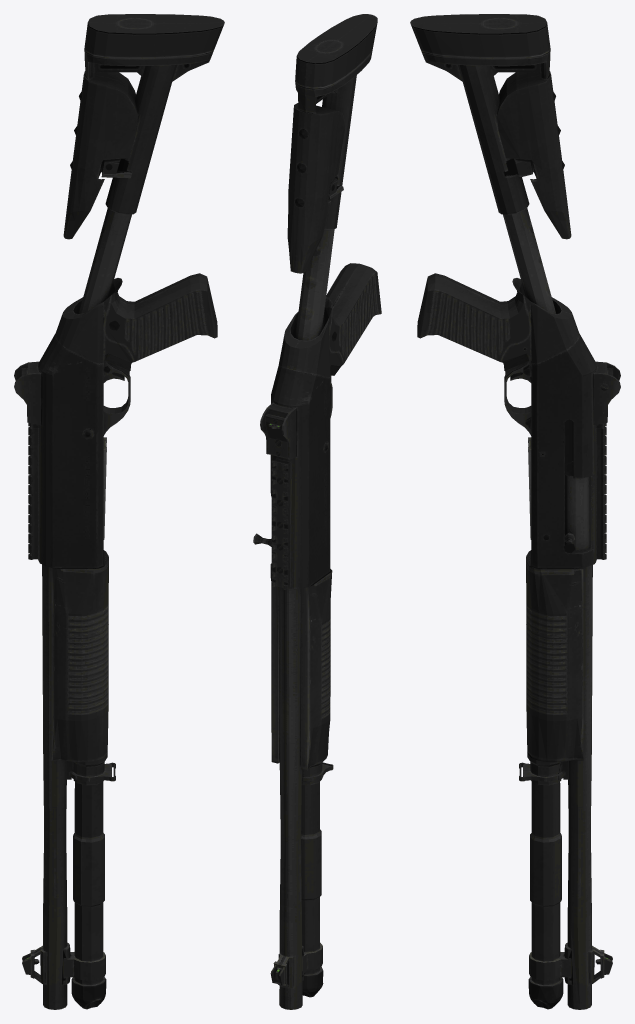
Rendered from w_shot_xm1014.obj.
3 renders of one model, left to right at view 1: azimuth 90°, elevation 25°; view 2: azimuth 150°, elevation 25°; view 3: azimuth 270°, elevation 25°, orthographic. The views are drawn at different scales.
Size of the model in its own units: 0.0274 by 0.374 by 0.0727.
Materials: 1 (1 with a texture image).
